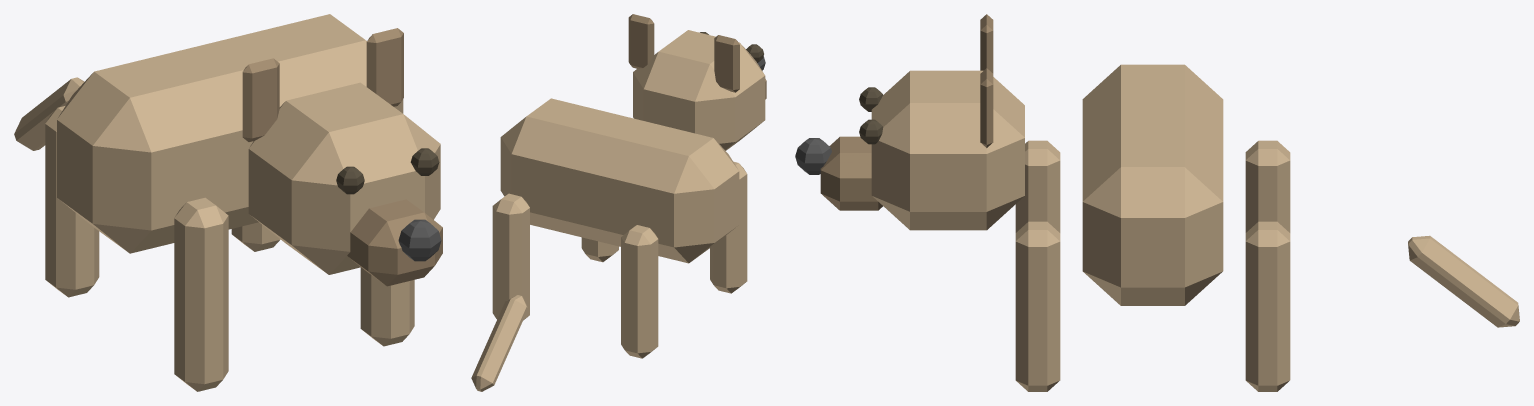
The model's file is th_hund.glb.
The picture shows the model from 3 angles, left to right: view 1: azimuth 30°, elevation 25°; view 2: azimuth 150°, elevation 25°; view 3: azimuth 270°, elevation 25°; orthographic projection. The views are drawn at different scales.
Visible parts, largest first — view 1: hund; view 2: hund; view 3: hund.
Boxes of the visible parts, <box> form: hund: <box>14,14,442,391</box>; hund: <box>471,14,766,391</box>; hund: <box>795,14,1519,391</box>.
Size of the model in its own units: 0.5 by 0.52 by 1.13.
